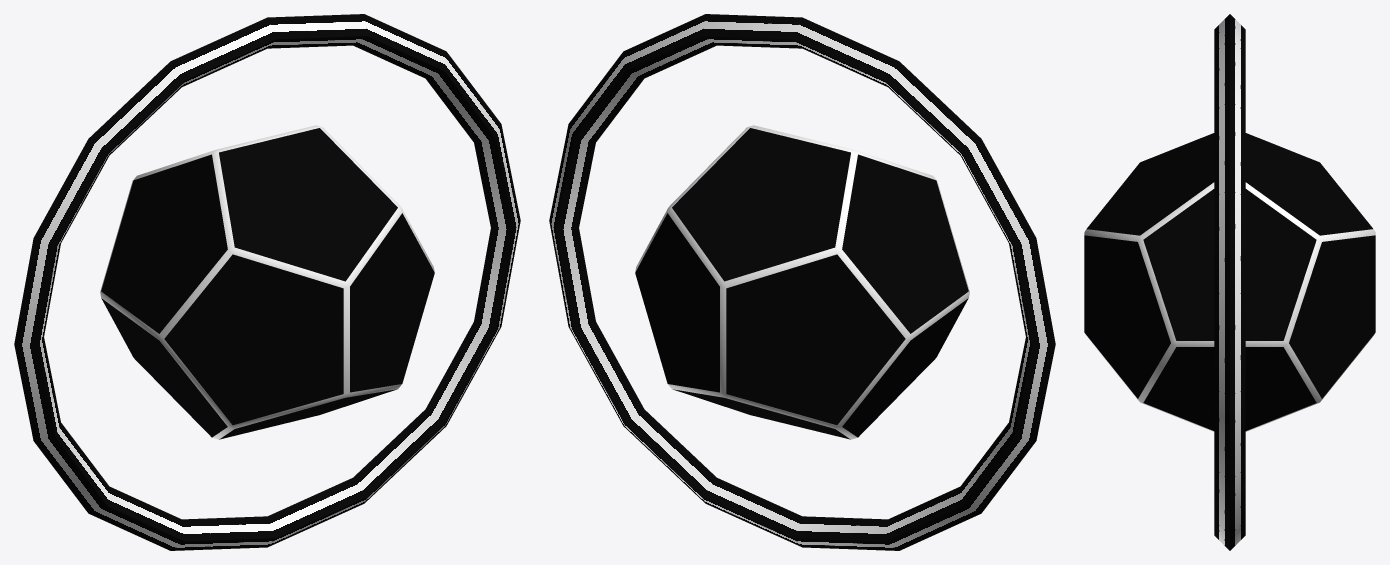
File: Collectable_HologramPrism.fbx
3 views of the same model, side by side, from view 1: azimuth 30°, elevation 25°; view 2: azimuth 150°, elevation 25°; view 3: azimuth 270°, elevation 25° (orthographic). The views are drawn at different scales.
Visible parts, largest first — view 1: Prism, Ring; view 2: Prism, Ring; view 3: Prism, Ring.
Boxes of the visible parts, box(x1,y1,x2,y2) form: Prism: box(100, 125, 434, 439); Ring: box(14, 14, 520, 550); Prism: box(635, 125, 969, 439); Ring: box(549, 14, 1055, 550); Prism: box(1084, 133, 1375, 431); Ring: box(1214, 14, 1245, 550).
Bounding box in the file's own units: 17 × 17 × 9.21.
